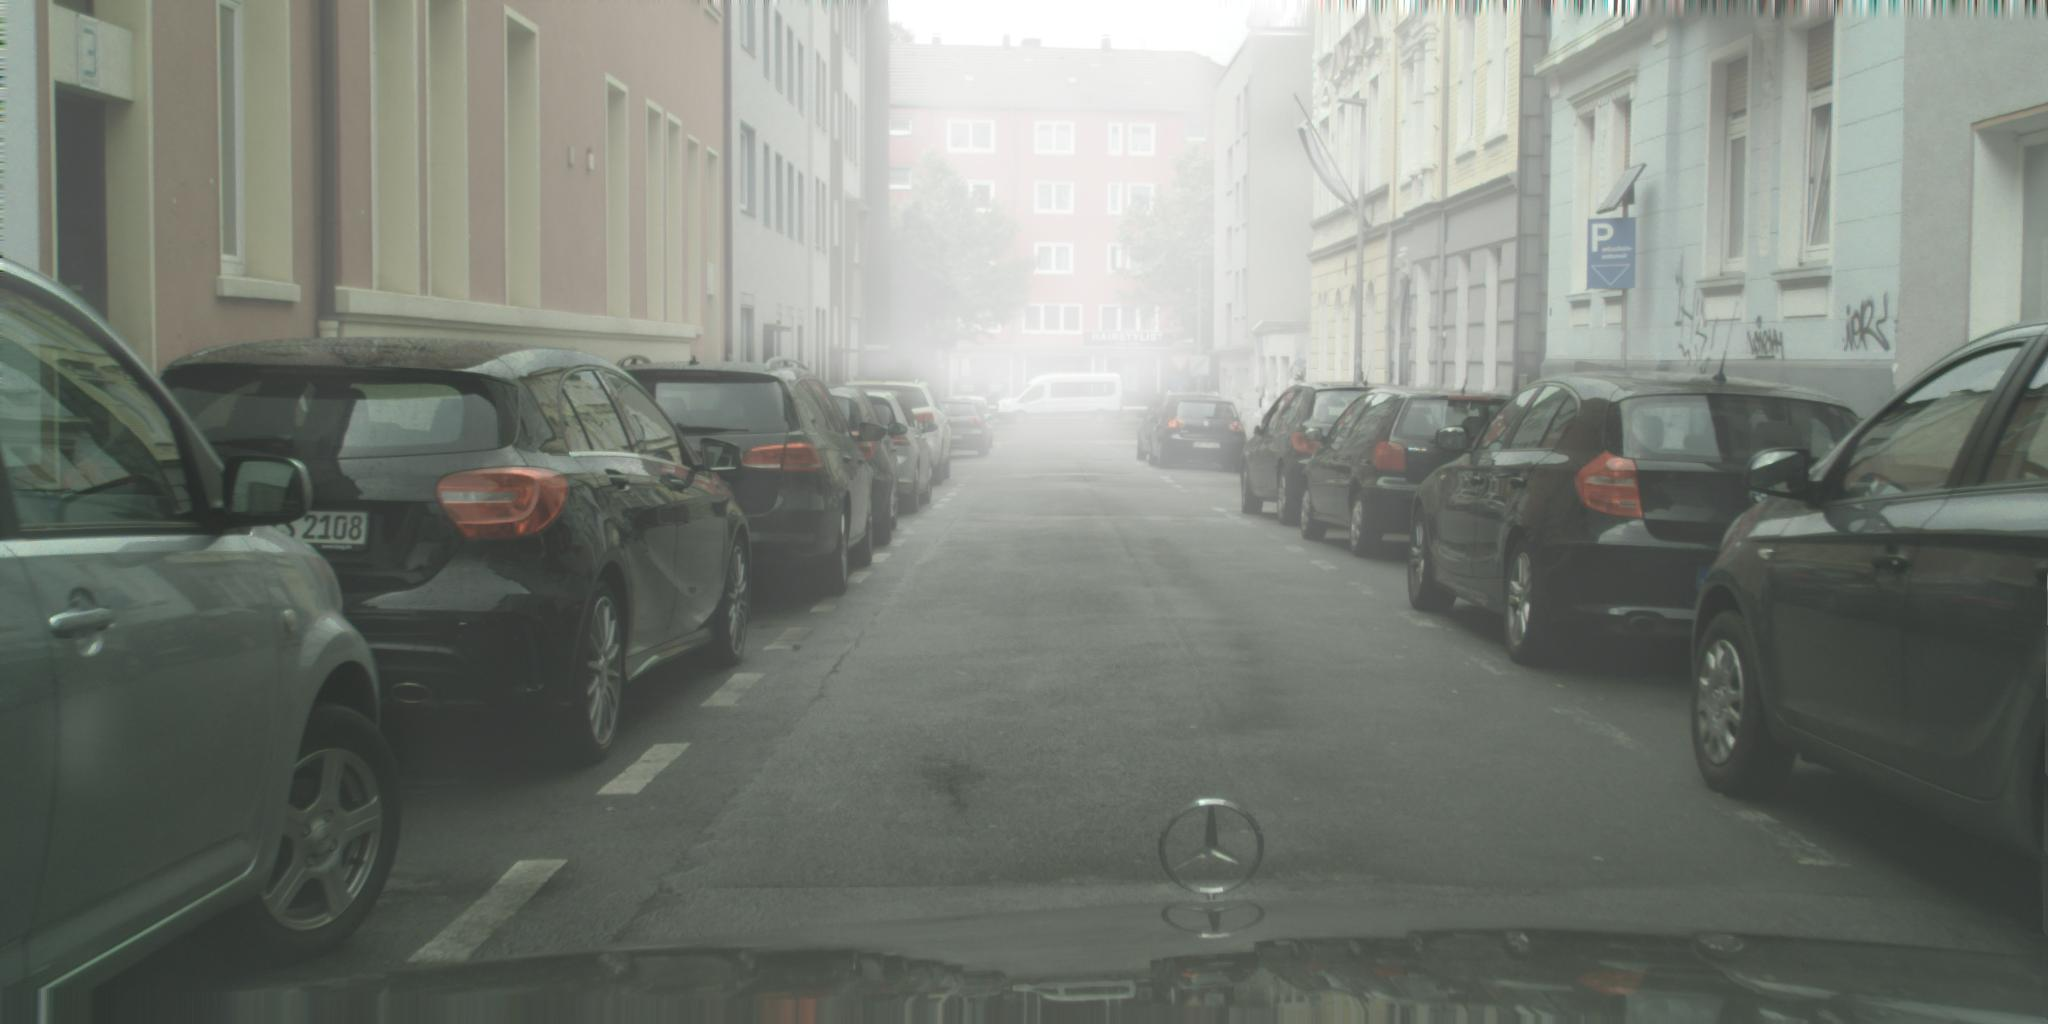car: (1, 253, 404, 1024), (148, 336, 755, 765), (1689, 317, 2048, 870), (1407, 300, 1877, 671), (611, 354, 888, 600), (1300, 346, 1526, 560), (1240, 350, 1407, 529), (814, 381, 909, 550), (835, 374, 953, 488), (836, 388, 940, 517), (1148, 397, 1249, 474), (1135, 388, 1232, 462), (997, 374, 1126, 426), (927, 398, 997, 458), (946, 394, 997, 451)
